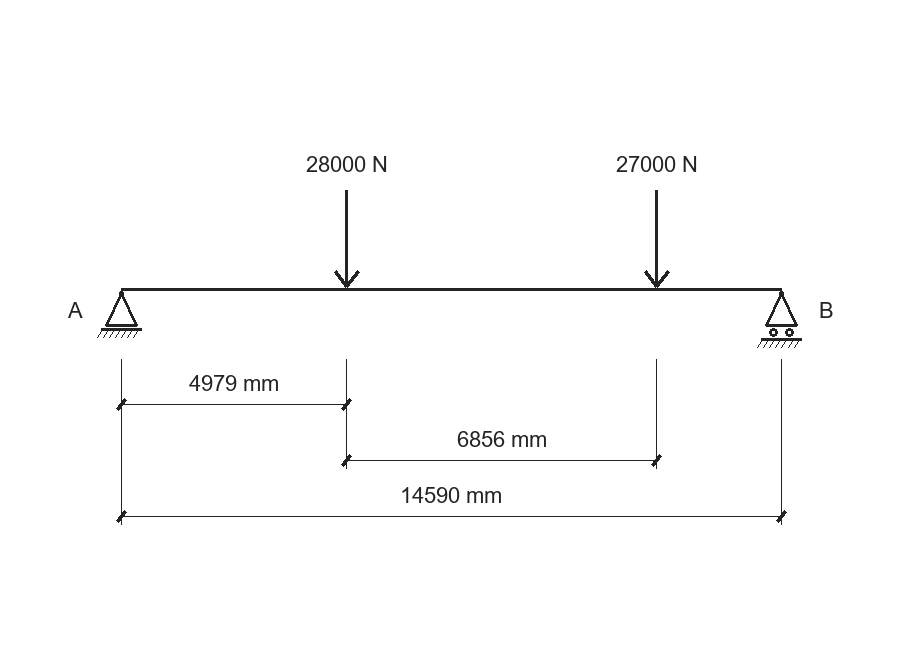pin_support: (97, 291, 142, 338)
point_load: (334, 190, 360, 288), (644, 190, 670, 288)
roller_support: (757, 291, 802, 348)
